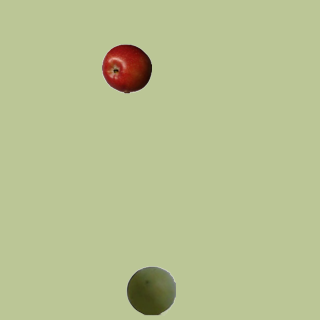Apple Braeburn: (101, 43, 151, 93)
Grape White 4: (125, 265, 175, 315)
